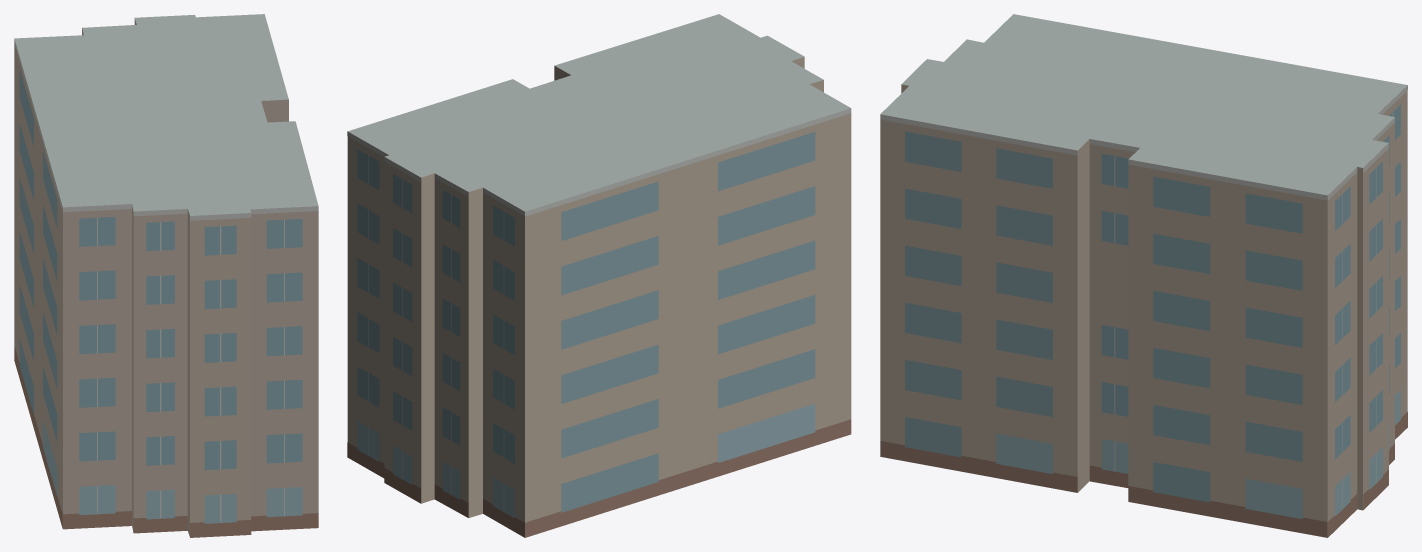
File: survey-upis-32962426.glb
The picture shows the model from 3 angles, left to right: view 1: azimuth 30°, elevation 25°; view 2: azimuth 150°, elevation 25°; view 3: azimuth 270°, elevation 25°; orthographic projection. The views are drawn at different scales.
Visible parts, largest first — view 1: survey-upis-32962426.tmp; view 2: survey-upis-32962426.tmp; view 3: survey-upis-32962426.tmp.
Part boxes in pixels (bbox=[...]): survey-upis-32962426.tmp: bbox=[14, 14, 318, 537]; survey-upis-32962426.tmp: bbox=[347, 14, 851, 537]; survey-upis-32962426.tmp: bbox=[880, 14, 1407, 537].
Bounding box in the file's own units: 18.53 × 16.3 × 22.77.
